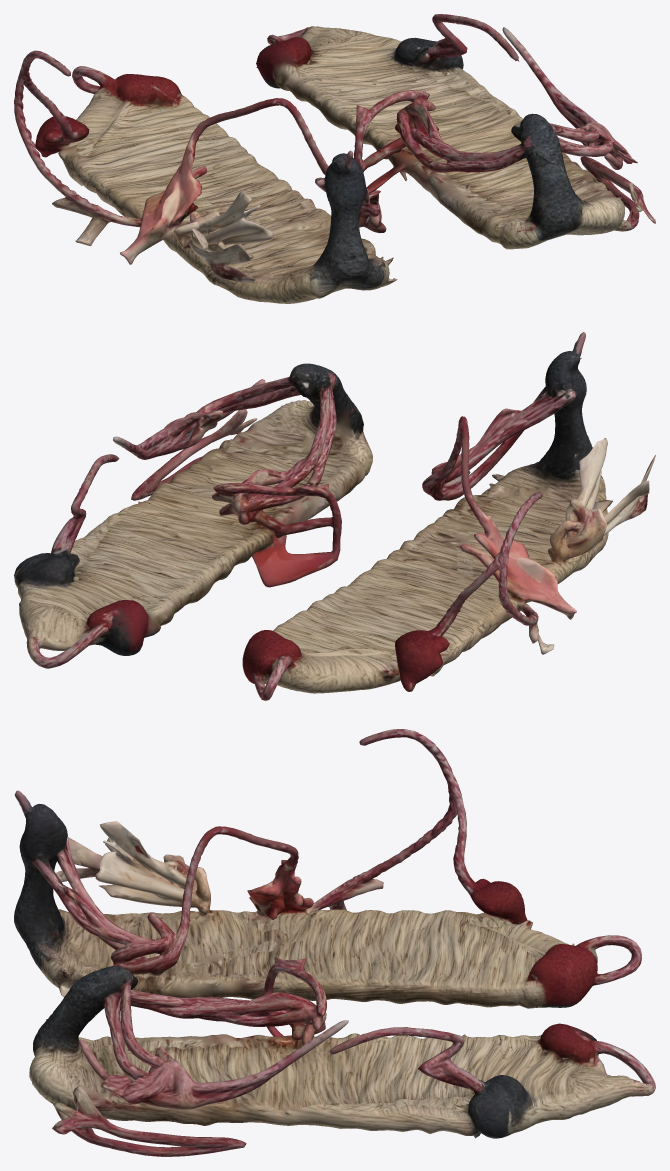
3 renders of one model, top to bottom at view 1: azimuth 30°, elevation 25°; view 2: azimuth 150°, elevation 25°; view 3: azimuth 270°, elevation 25°, orthographic. The views are drawn at different scales.
Parts seen in each view (by area): view 1: node_0; view 2: node_0; view 3: node_0.
Boxes of the visible parts, bbox=[...] form: node_0: bbox=[14, 14, 655, 303]; node_0: bbox=[14, 332, 655, 700]; node_0: bbox=[14, 729, 655, 1156].
Bounding box in the file's own units: 0.8848 × 0.3322 × 0.9785.
1 material, 1 textured.
